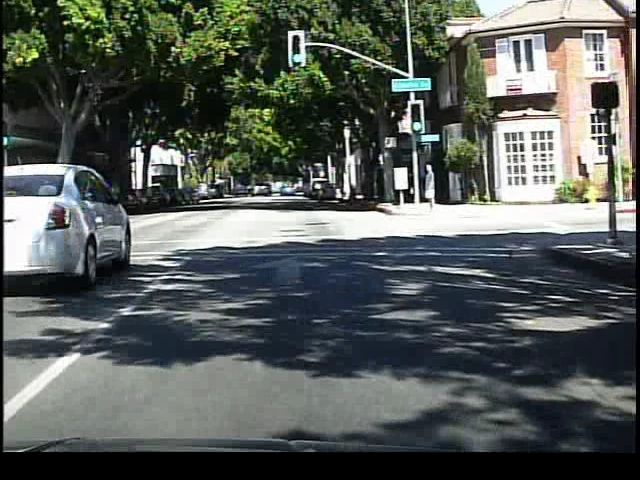person: (421, 158, 441, 214)
